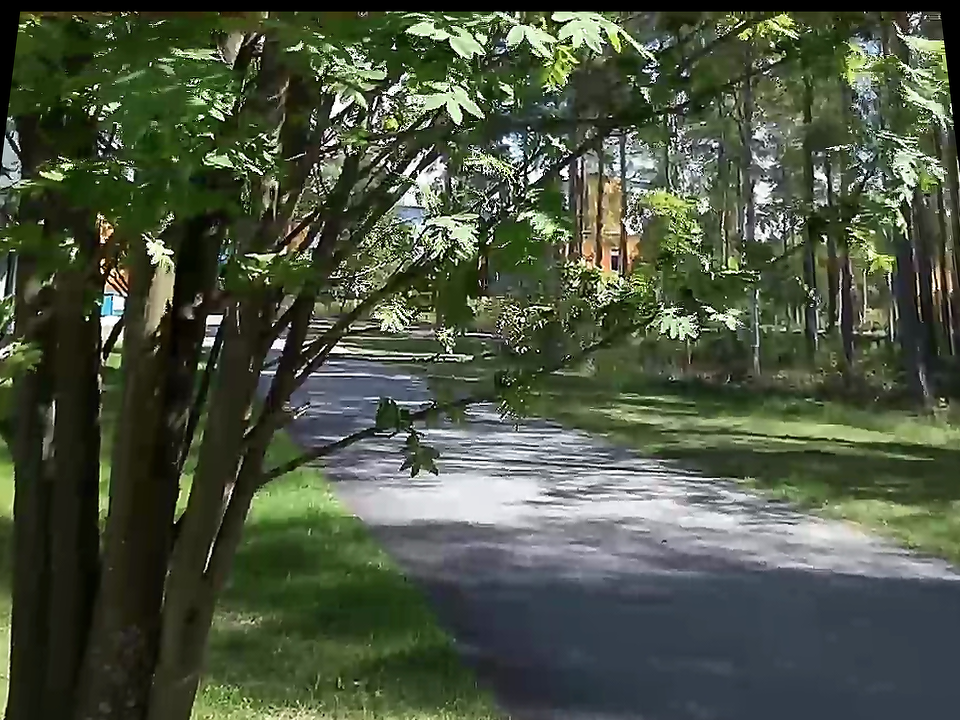branch: (457, 312, 611, 430), (357, 348, 499, 464), (302, 387, 411, 497)
trunk: (4, 61, 372, 699)
